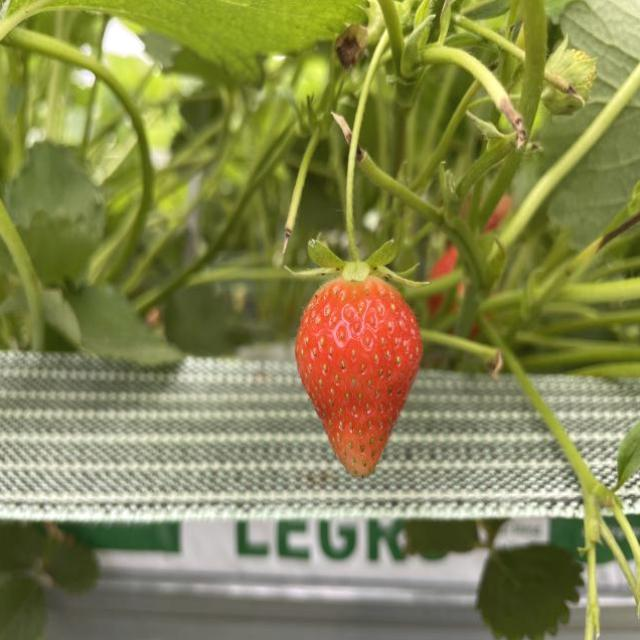stem: (292, 30, 453, 291)
strawberryR: (296, 278, 420, 473)
